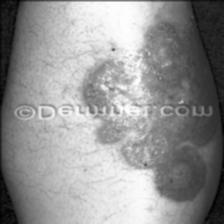Unclassified: (106, 52, 191, 103), (152, 147, 204, 203)
